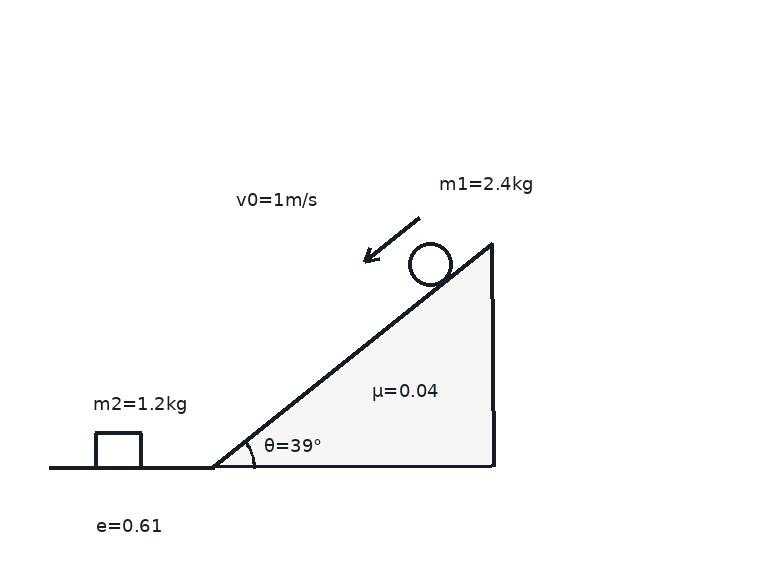ball: (406, 240, 454, 288)
block: (93, 431, 143, 469)
ramp: (212, 240, 493, 469)
